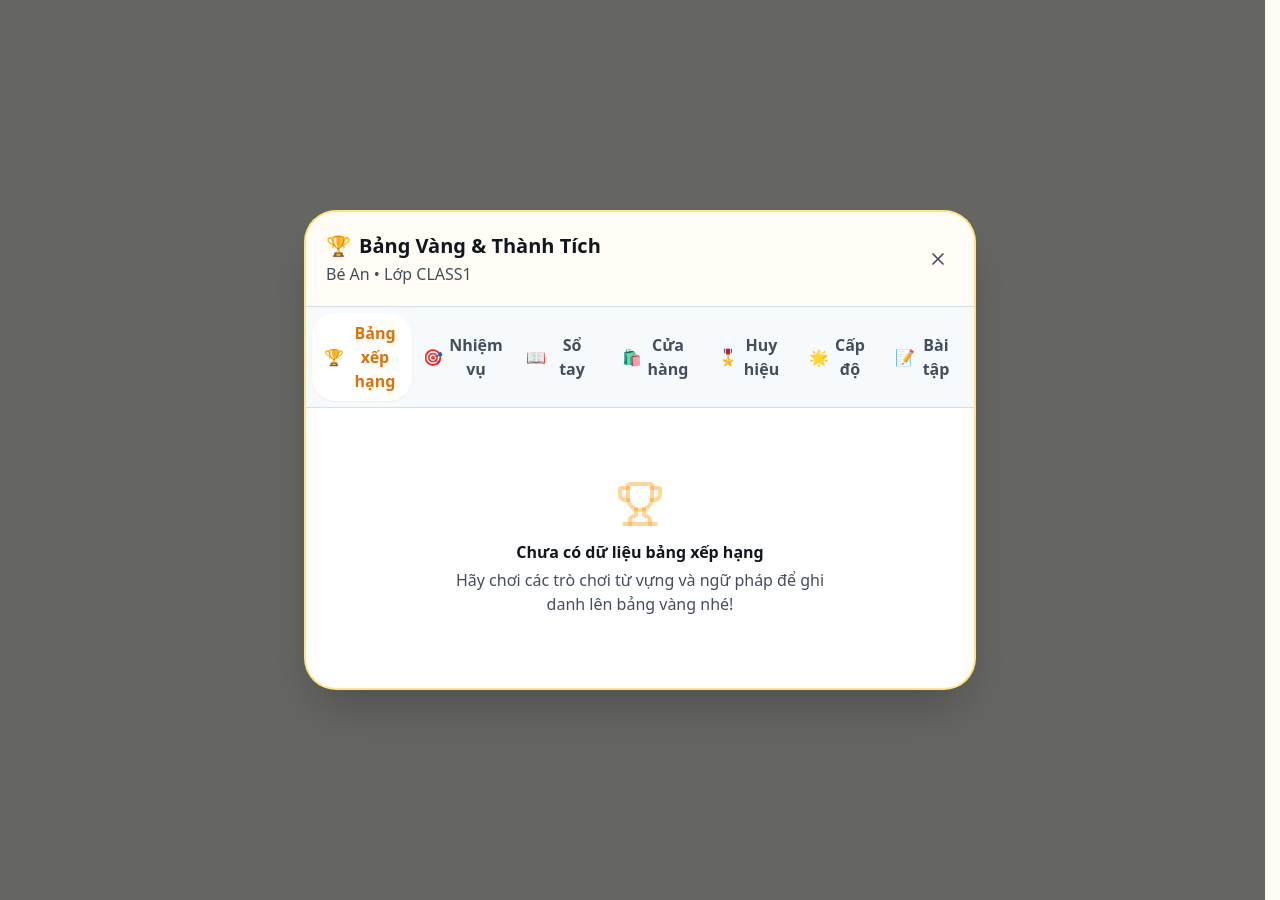
StudentGamificationModal Component › switches to Levels tab and displays progress bar and level roadmap
Click the tab "🌟 Cấp độ". click: [837, 357]
box: top-left (797, 313), bottom-right (877, 401)
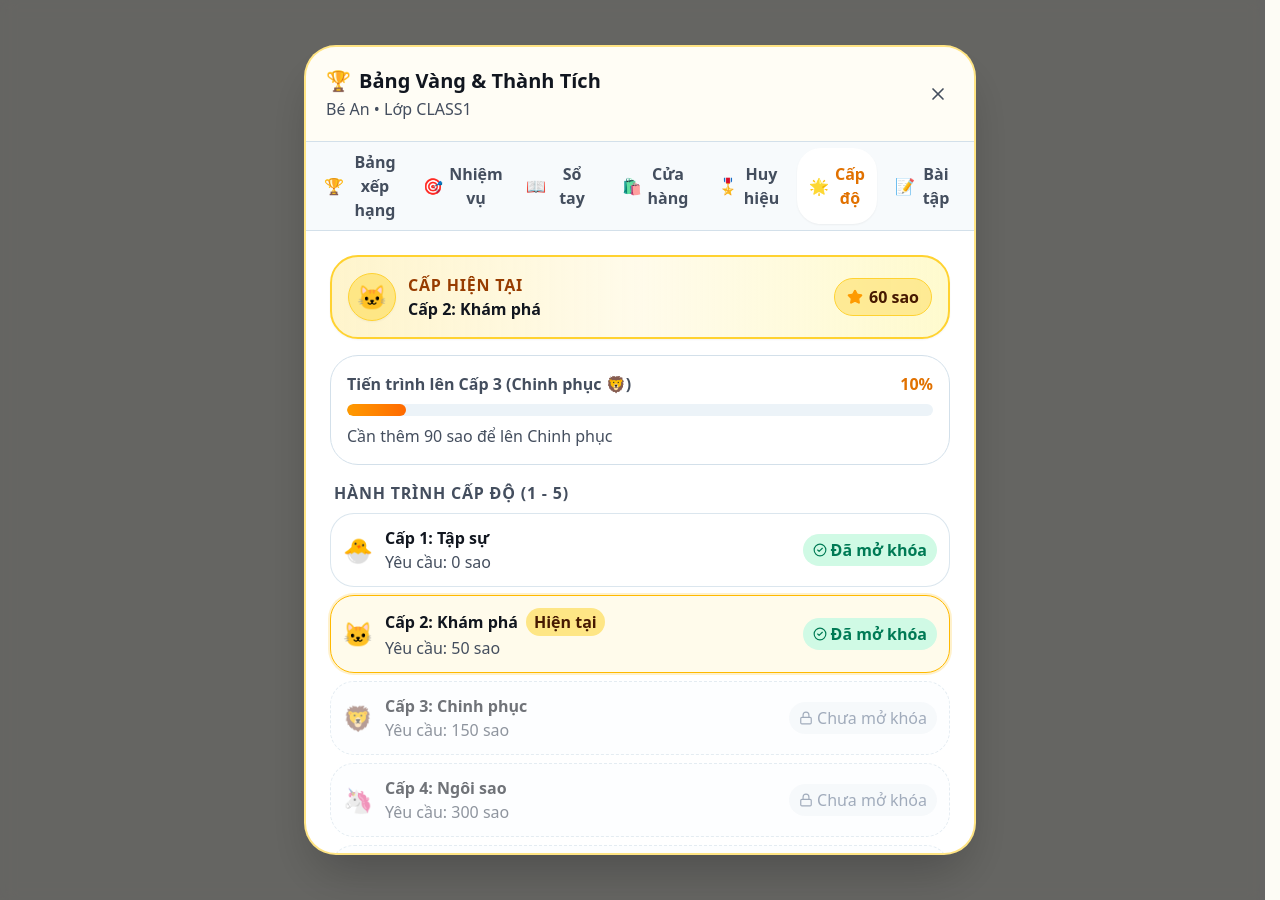
Check: the text "Cấp 2: Khám phá" below "Cấp hiện tại" is shown, box top-left (408, 298), bottom-right (541, 320)
Check: the text "60 sao" is shown, box top-left (869, 285), bottom-right (919, 309)
Check: the text "Cấp 1: Tập sự" is shown, box top-left (385, 526), bottom-right (489, 550)
